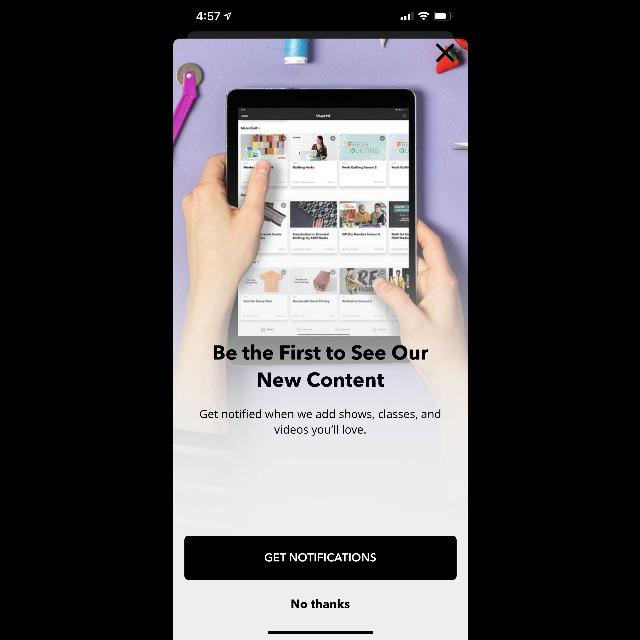backgroundimage: (172, 38, 468, 640)
icon: (436, 44, 454, 62)
text: (214, 345, 428, 387), (200, 409, 440, 436), (291, 600, 349, 608)
textbutton: (184, 536, 456, 580)
uppertaskbar: (196, 12, 452, 21)
